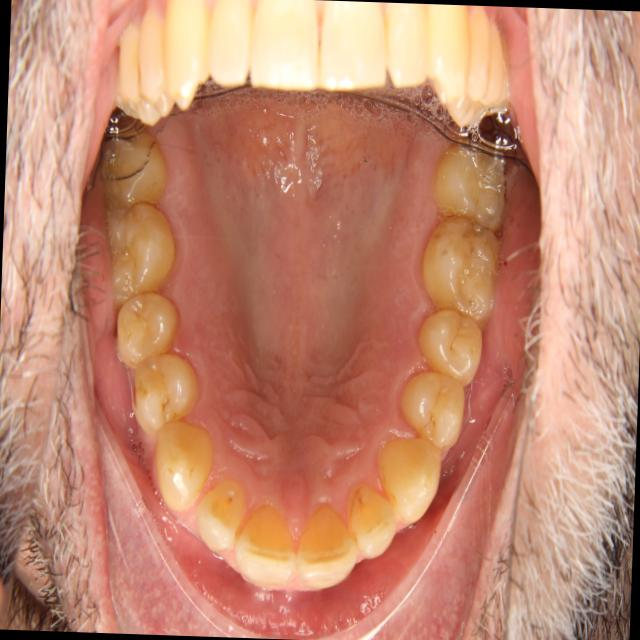tooth: (409, 201, 509, 330), (93, 192, 182, 313), (428, 129, 516, 233), (369, 424, 447, 534), (143, 413, 221, 521), (287, 491, 365, 595), (89, 121, 173, 214), (228, 493, 301, 598), (391, 361, 470, 457), (407, 295, 488, 385), (108, 285, 184, 379), (126, 350, 202, 441), (341, 473, 404, 570), (193, 471, 252, 558)
